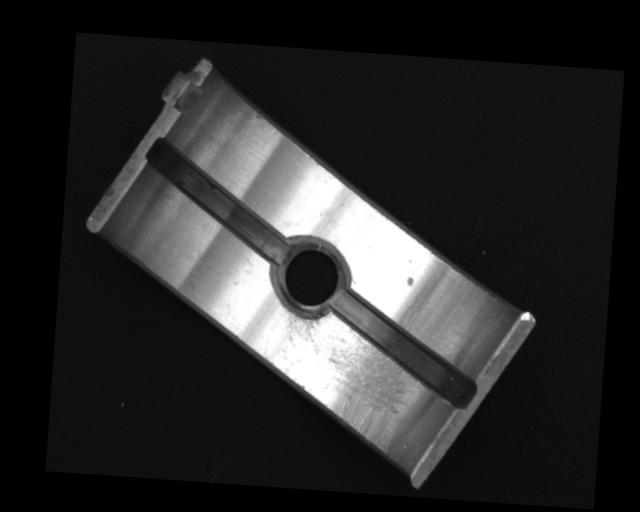bruise: (406, 276, 414, 288)
gap: (139, 136, 298, 265), (326, 289, 481, 409)
hole: (268, 238, 352, 321)
scratch: (271, 305, 415, 453)
